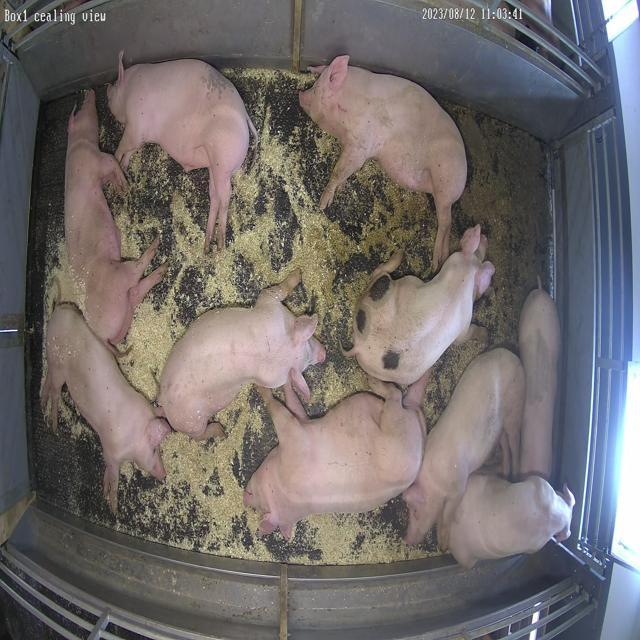Dirt: (426, 104, 549, 428), (324, 162, 437, 352)
Pig: (158, 270, 426, 538), (300, 55, 468, 270), (244, 373, 430, 538), (42, 304, 171, 512), (64, 90, 166, 344), (404, 349, 527, 550), (346, 225, 496, 386), (449, 475, 575, 569), (520, 289, 562, 480)
